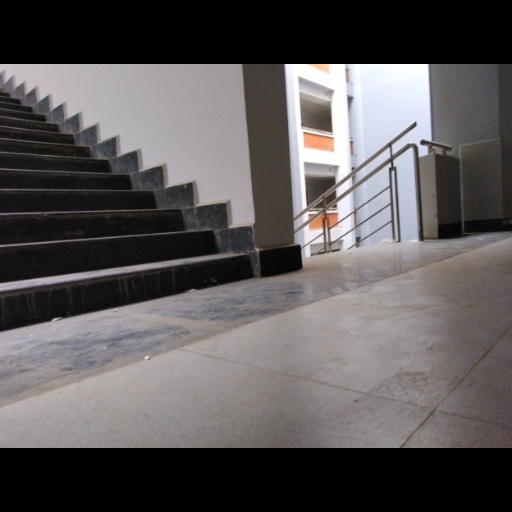Stairs: (0, 74, 259, 330)
